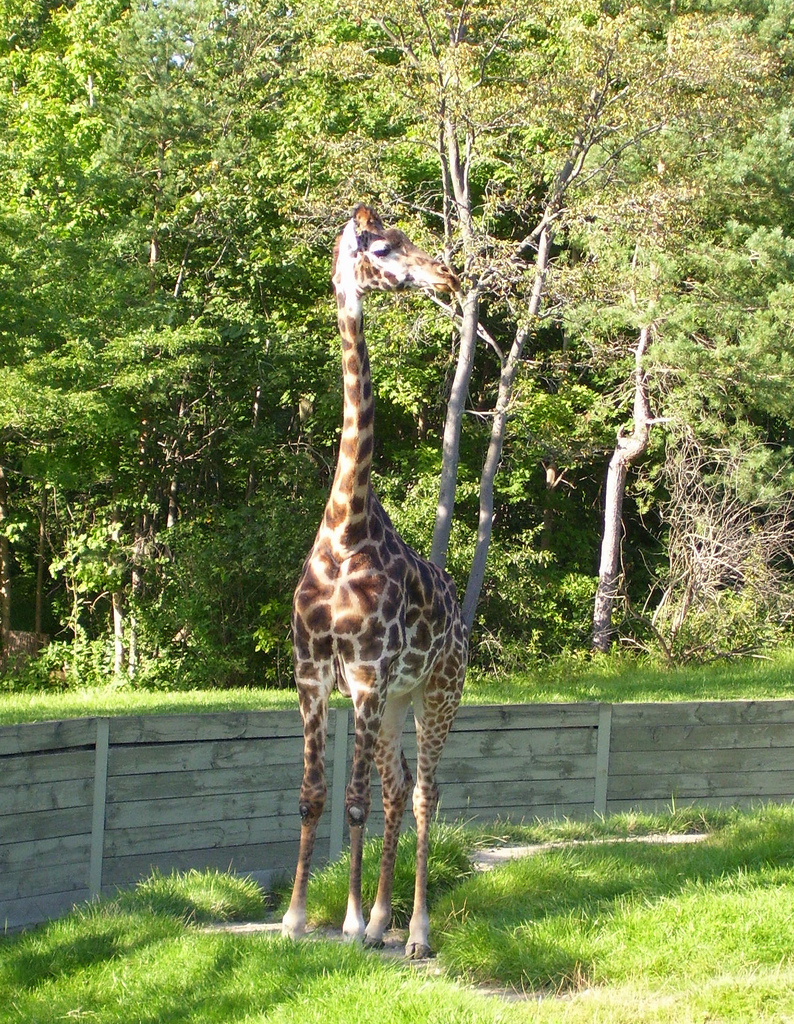giraffe: (287, 191, 482, 972)
